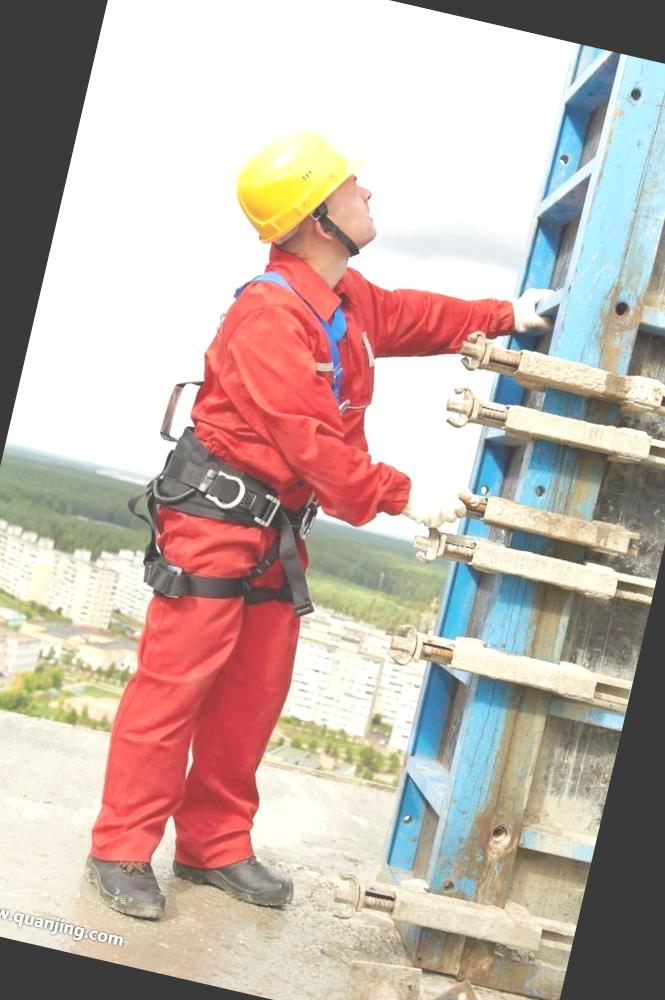helmet: (224, 118, 398, 262)
person: (54, 110, 510, 964)
